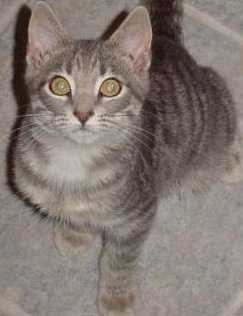Cat: (7, 0, 240, 297)
